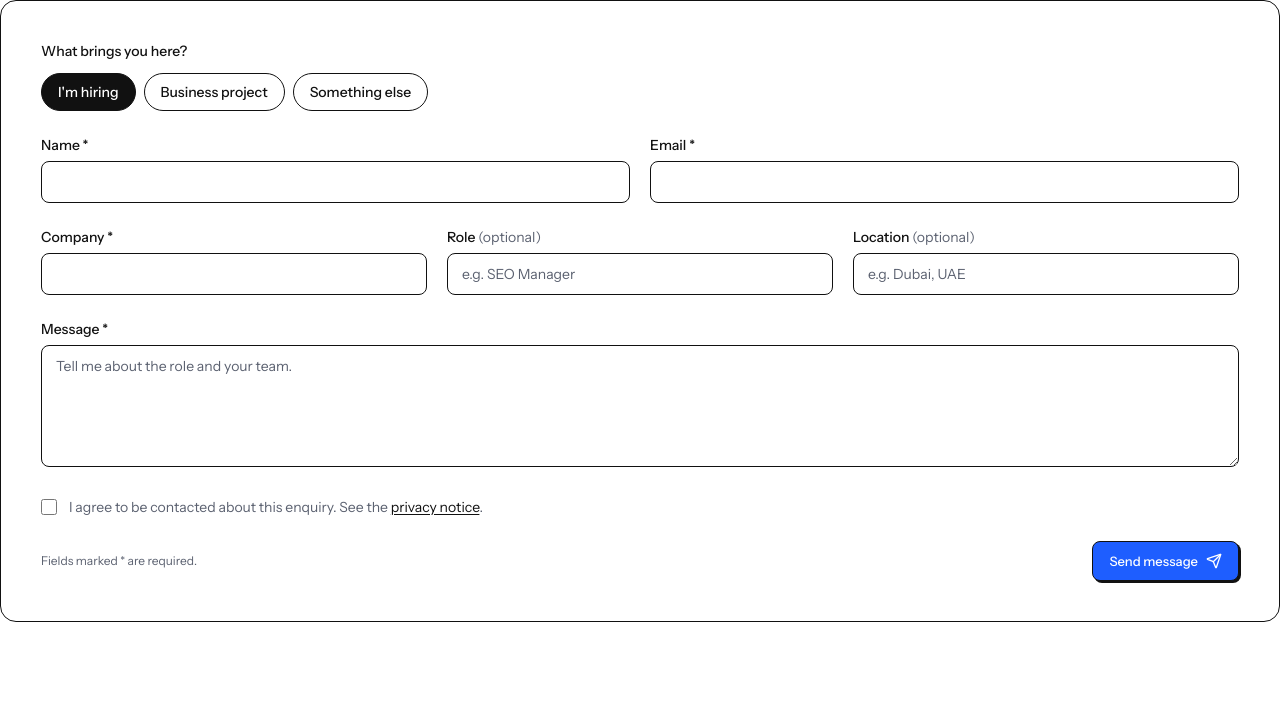
ContactForm › shows hiring fields by default and project fields when switching intent
The width and height of the screenshot is (1280, 720).
Check: the field labelled "Company *" is shown, box x1=41 y1=253 x2=427 y2=295
Check: the element "services" is not shown
Click the radio button labelled "Business project" at (214, 92), box x1=144 y1=73 x2=285 y2=111
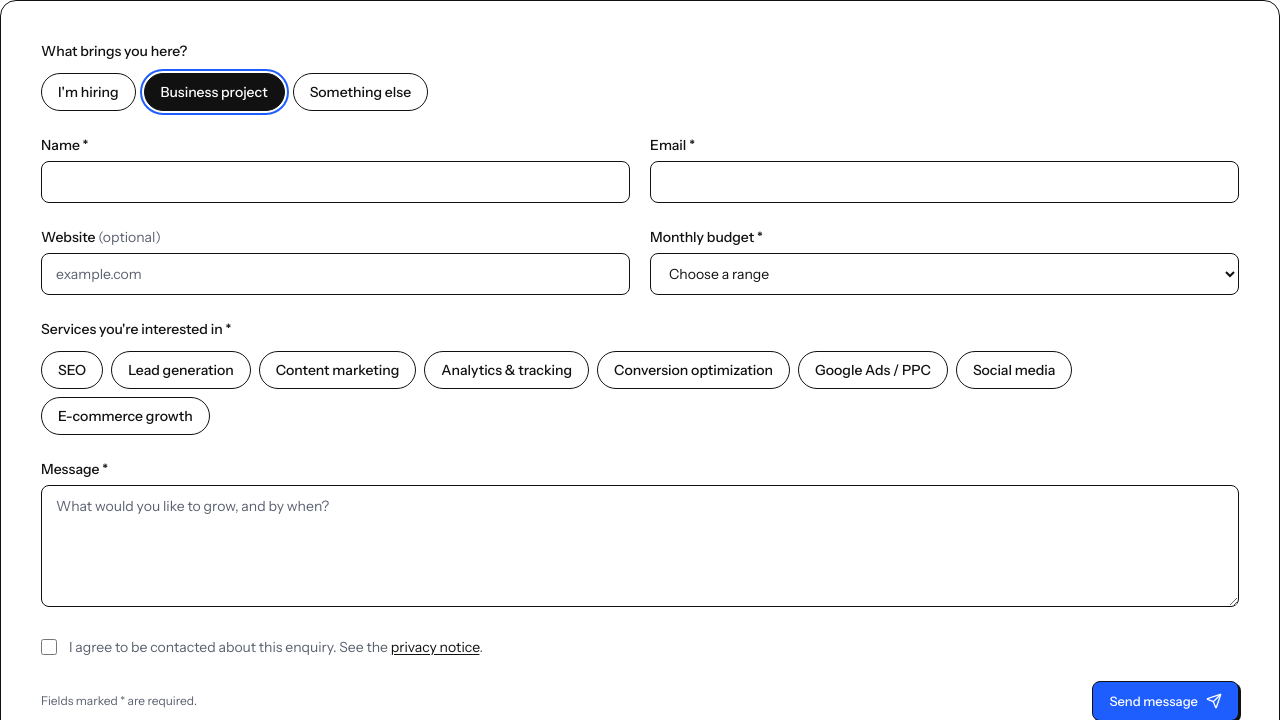
Check: the element "Services" is shown, box x1=41 y1=319 x2=1239 y2=435
Check: the label labelled "Company" is gone
